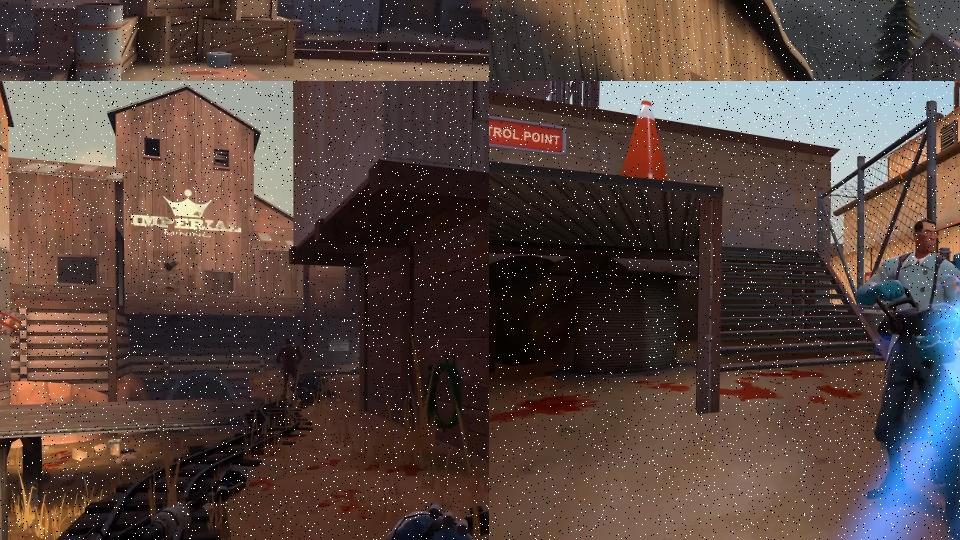Enemy: (856, 219, 960, 540), (301, 498, 489, 540), (274, 329, 306, 406)
